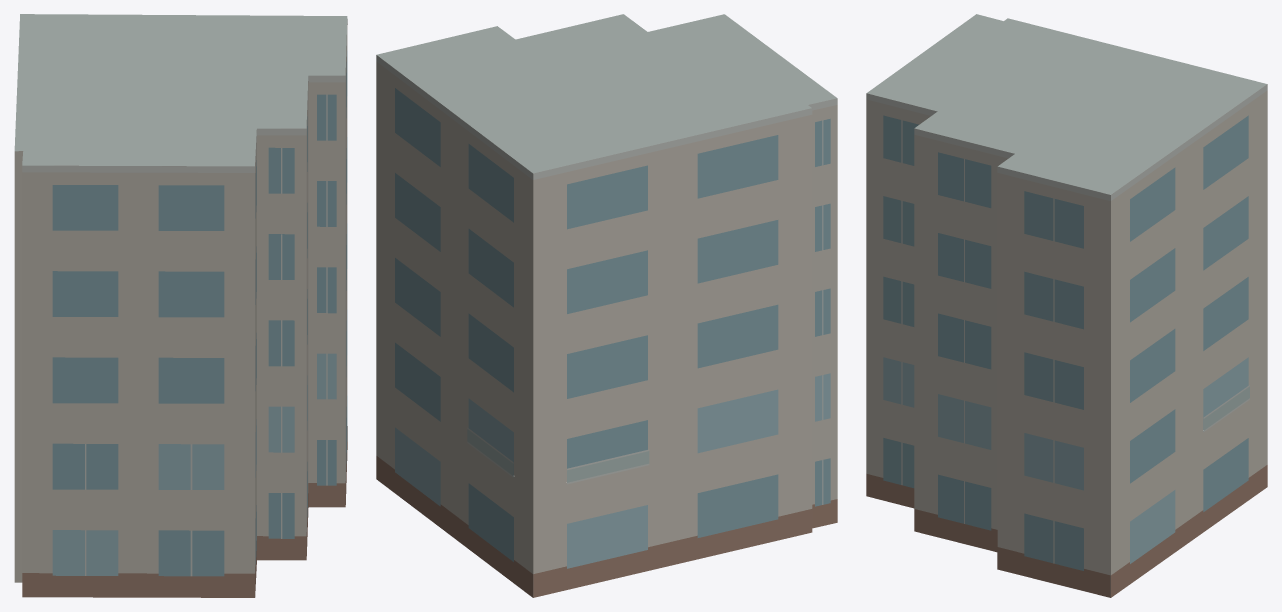
File: survey-upis-32874348.glb
3 renders of one model, left to right at view 1: azimuth 30°, elevation 25°; view 2: azimuth 150°, elevation 25°; view 3: azimuth 270°, elevation 25°, orthographic. The views are drawn at different scales.
Parts seen in each view (by area): view 1: survey-upis-32874348.tmp; view 2: survey-upis-32874348.tmp; view 3: survey-upis-32874348.tmp.
Boxes of the visible parts, x1,y1,x2,y2 form: survey-upis-32874348.tmp: (14, 14, 347, 597); survey-upis-32874348.tmp: (376, 14, 837, 597); survey-upis-32874348.tmp: (866, 14, 1267, 597).
Size of the model in its own units: 15.23 by 15.8 by 14.26.
